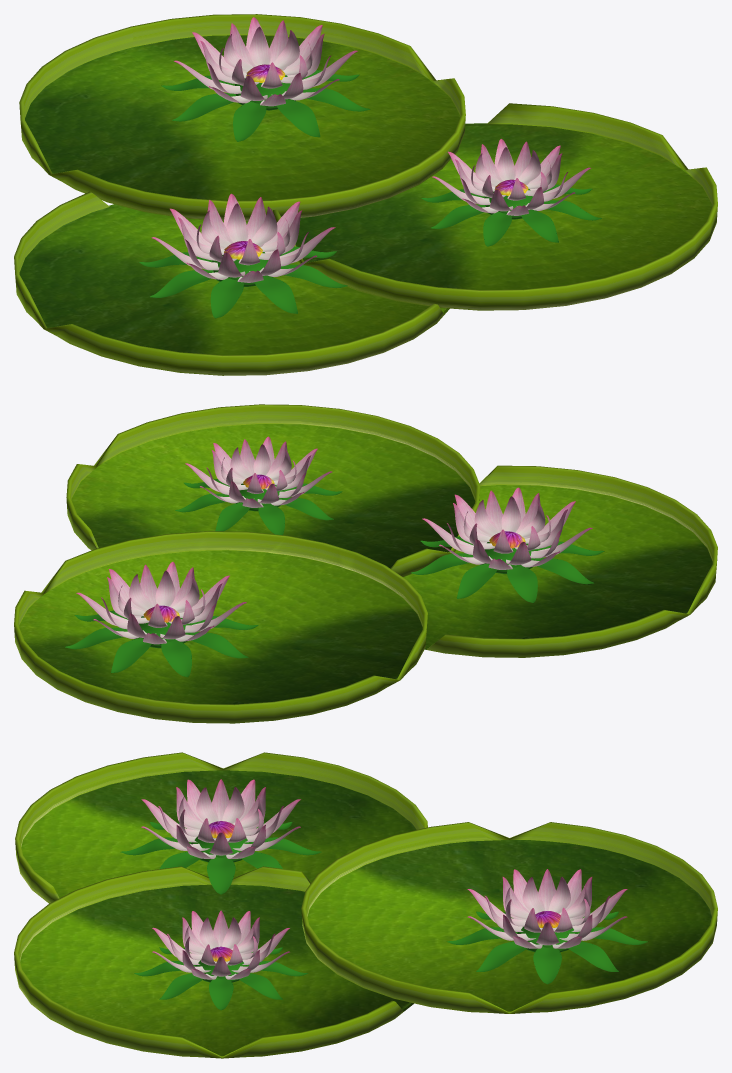
File: nenufar.fbx
3 views of the same model, one above another, from view 1: azimuth 30°, elevation 25°; view 2: azimuth 150°, elevation 25°; view 3: azimuth 270°, elevation 25° (orthographic). The views are drawn at different scales.
Parts seen in each view (by area): view 1: Cylinder.006, lotus water lily.002, lotus water lily.001, lotus water lily; view 2: Cylinder.006, lotus water lily.001, lotus water lily.002, lotus water lily; view 3: Cylinder.006, lotus water lily.002, lotus water lily.001, lotus water lily.
Boxes of the visible parts, box(x1,y1,x2,y2) form: Cylinder.006: box(14, 14, 717, 375); lotus water lily.002: box(161, 17, 370, 141); lotus water lily.001: box(139, 193, 347, 318); lotus water lily: box(421, 139, 601, 246); Cylinder.006: box(14, 404, 717, 723); lotus water lily.001: box(410, 487, 604, 602); lotus water lily.002: box(65, 562, 258, 677); lotus water lily: box(175, 436, 342, 535); Cylinder.006: box(14, 752, 717, 1058); lotus water lily.002: box(447, 869, 648, 984); lotus water lily.001: box(120, 779, 321, 894); lotus water lily: box(134, 910, 307, 1010).
Size of the model in its own units: 71.95 by 6.46 by 73.11.
3 materials, 3 textured.
